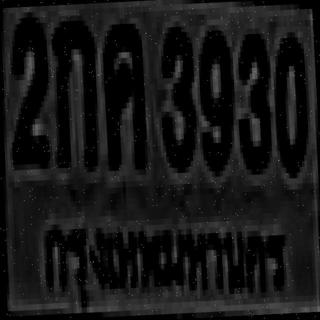A01: (48, 15, 98, 163)
A04: (98, 18, 146, 166)
N00: (271, 32, 308, 174)
N02: (5, 9, 50, 162)
N03: (154, 21, 196, 168), (233, 31, 272, 167)
N09: (194, 24, 233, 166)
P04: (37, 196, 290, 320)
